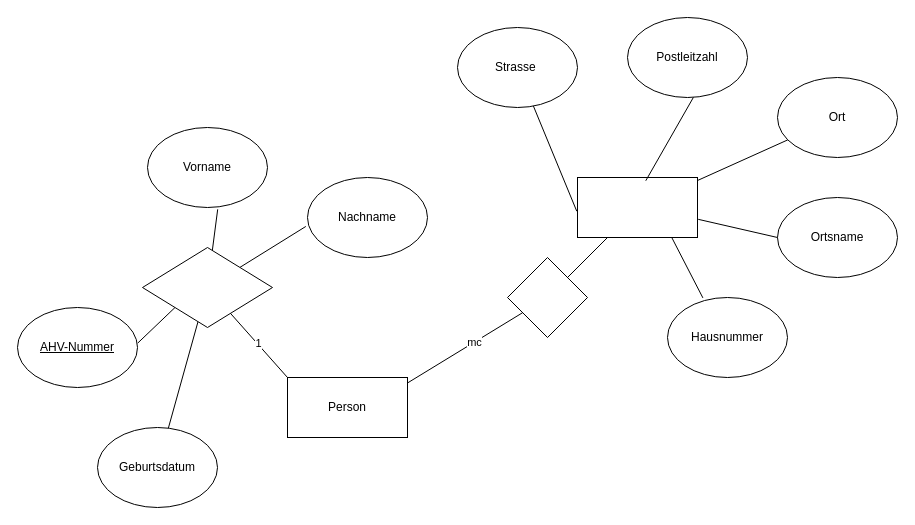
Some shapes in this 915 by 525 pixel diagram are drawn without their labels. Each missing label, with the centre of its shape:
Adresse: point (637, 207)
Identifiziert sich: point (207, 287)
wohnt: point (547, 297)
